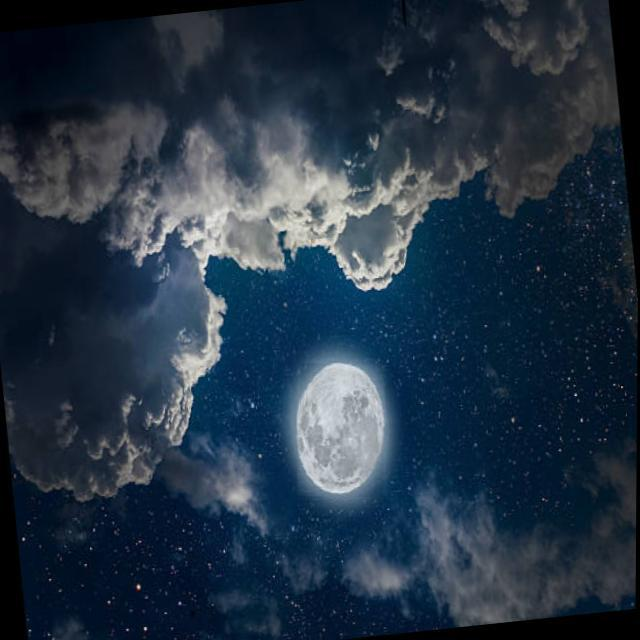moon: (288, 357, 396, 502)
